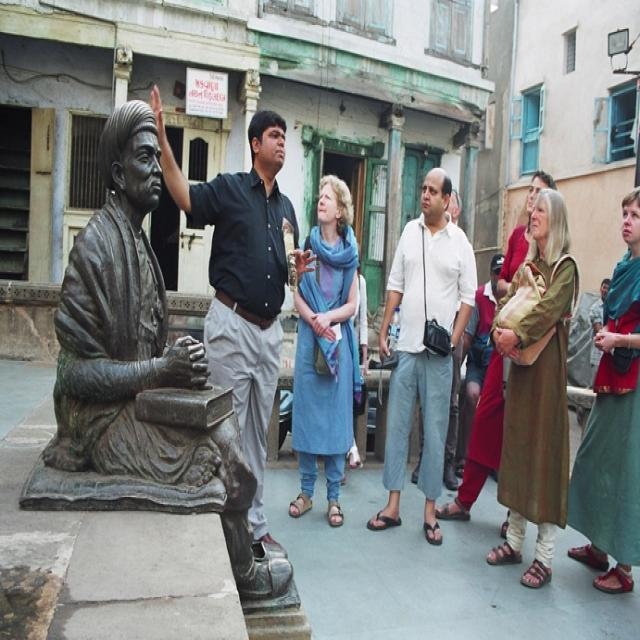body: (42, 90, 299, 606), (146, 78, 320, 573), (433, 166, 558, 542), (364, 162, 480, 548), (482, 184, 582, 592), (565, 184, 640, 596), (286, 170, 360, 530), (410, 187, 463, 493), (456, 251, 508, 478), (344, 240, 368, 471), (588, 276, 613, 392)
